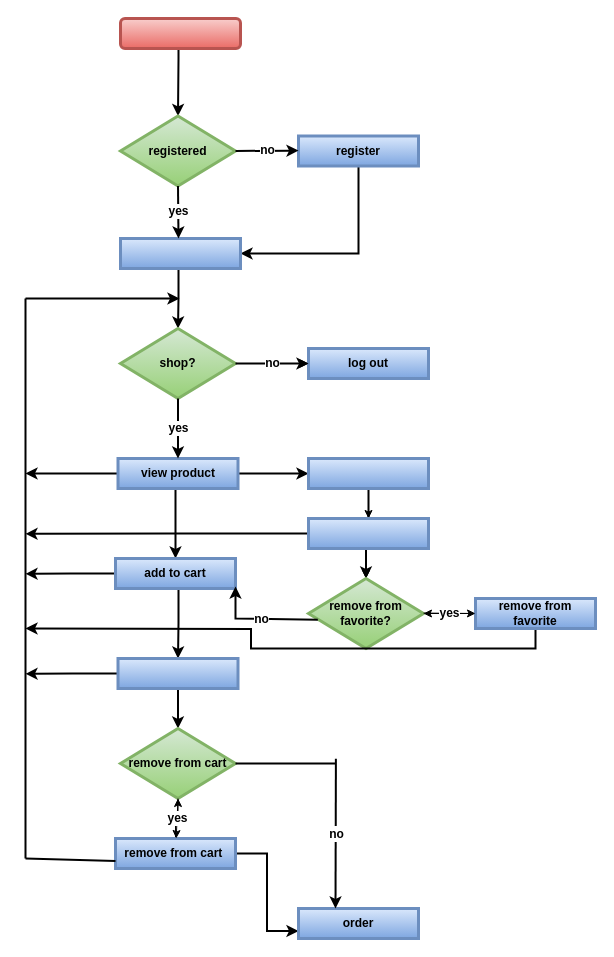
The diagram is 614 pixels wide and 957 high, and some of its shapes have lost their labels. Each missing label, with the centre of its shape:
"add to favorite" goes at (x=368, y=473).
"login" goes at (x=180, y=253).
"start" goes at (x=180, y=33).
"view cart" goes at (x=177, y=673).
"view favorite" goes at (x=368, y=533).
